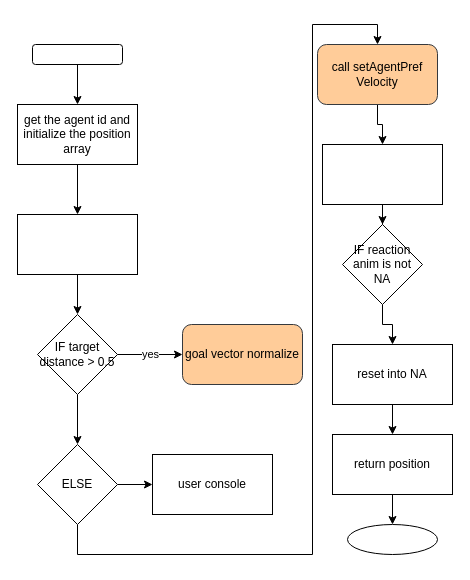
Image size: 470x580. Some labels were removed from this diagram. The centre of each missing label's shape, as x and y in pixels:
calculate the goal distance vector: [77,244]
construct the truck position array: [382,174]
end: [392,539]
start: [77,54]
